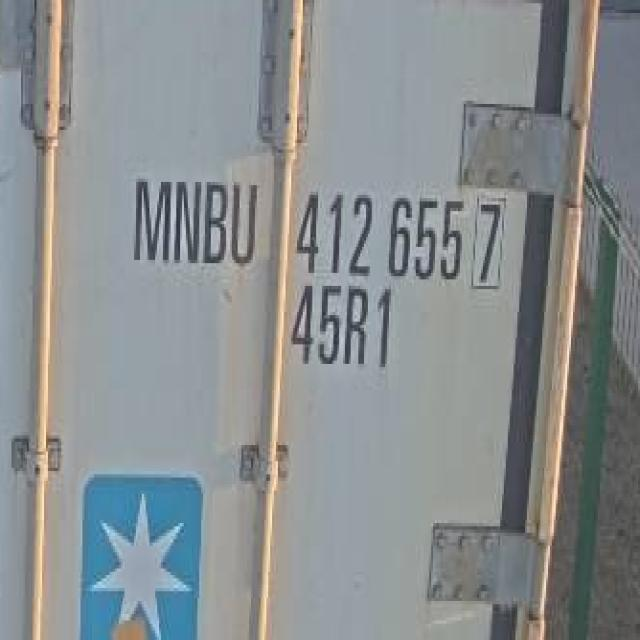dv: (471, 190, 513, 288)
owner: (122, 167, 264, 272)
serial: (289, 185, 467, 283)
size: (290, 282, 398, 375)
